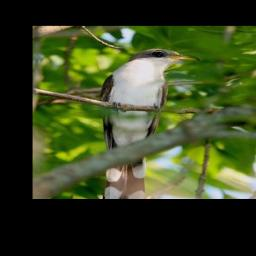Cuckoo: (97, 47, 202, 198)
